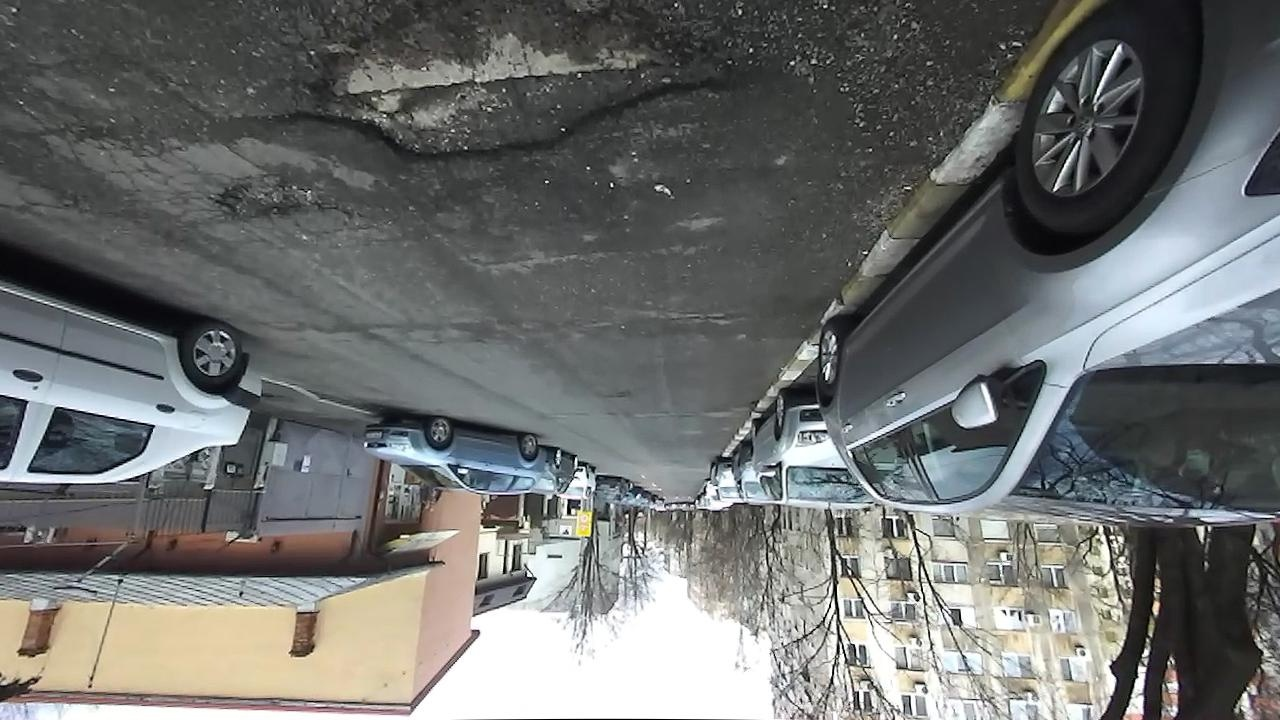pothole: (269, 0, 746, 165), (202, 168, 357, 231), (658, 307, 735, 331)
